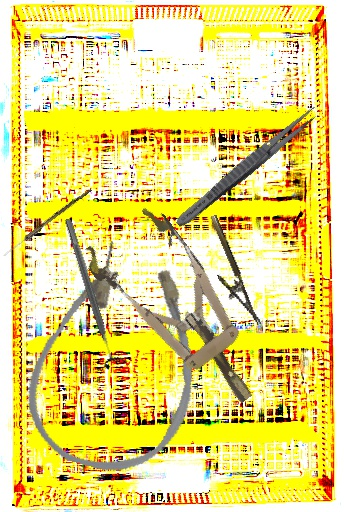Cannula: (10, 229, 227, 488)
Dressing Forceps: (172, 102, 322, 232)
Fixation Ring: (56, 215, 128, 371)
Needle Holder: (195, 213, 262, 333)
Speculum: (78, 198, 283, 429)
Surgical Spoon: (2, 186, 92, 259)
